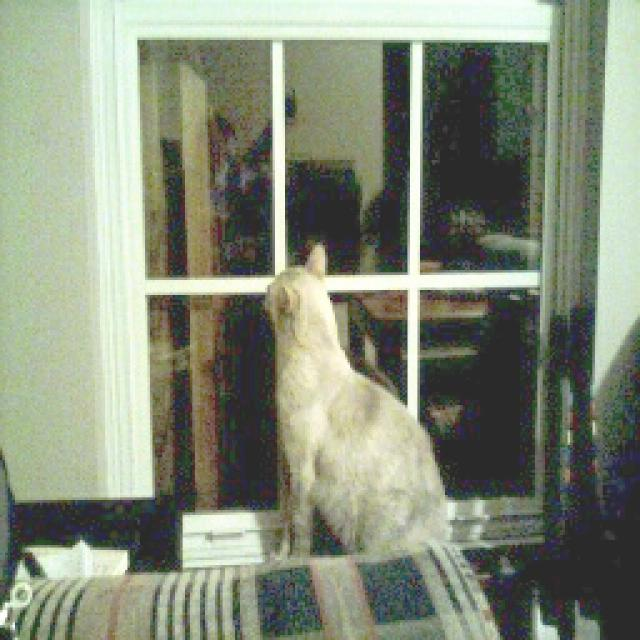cat: (232, 238, 480, 584)
